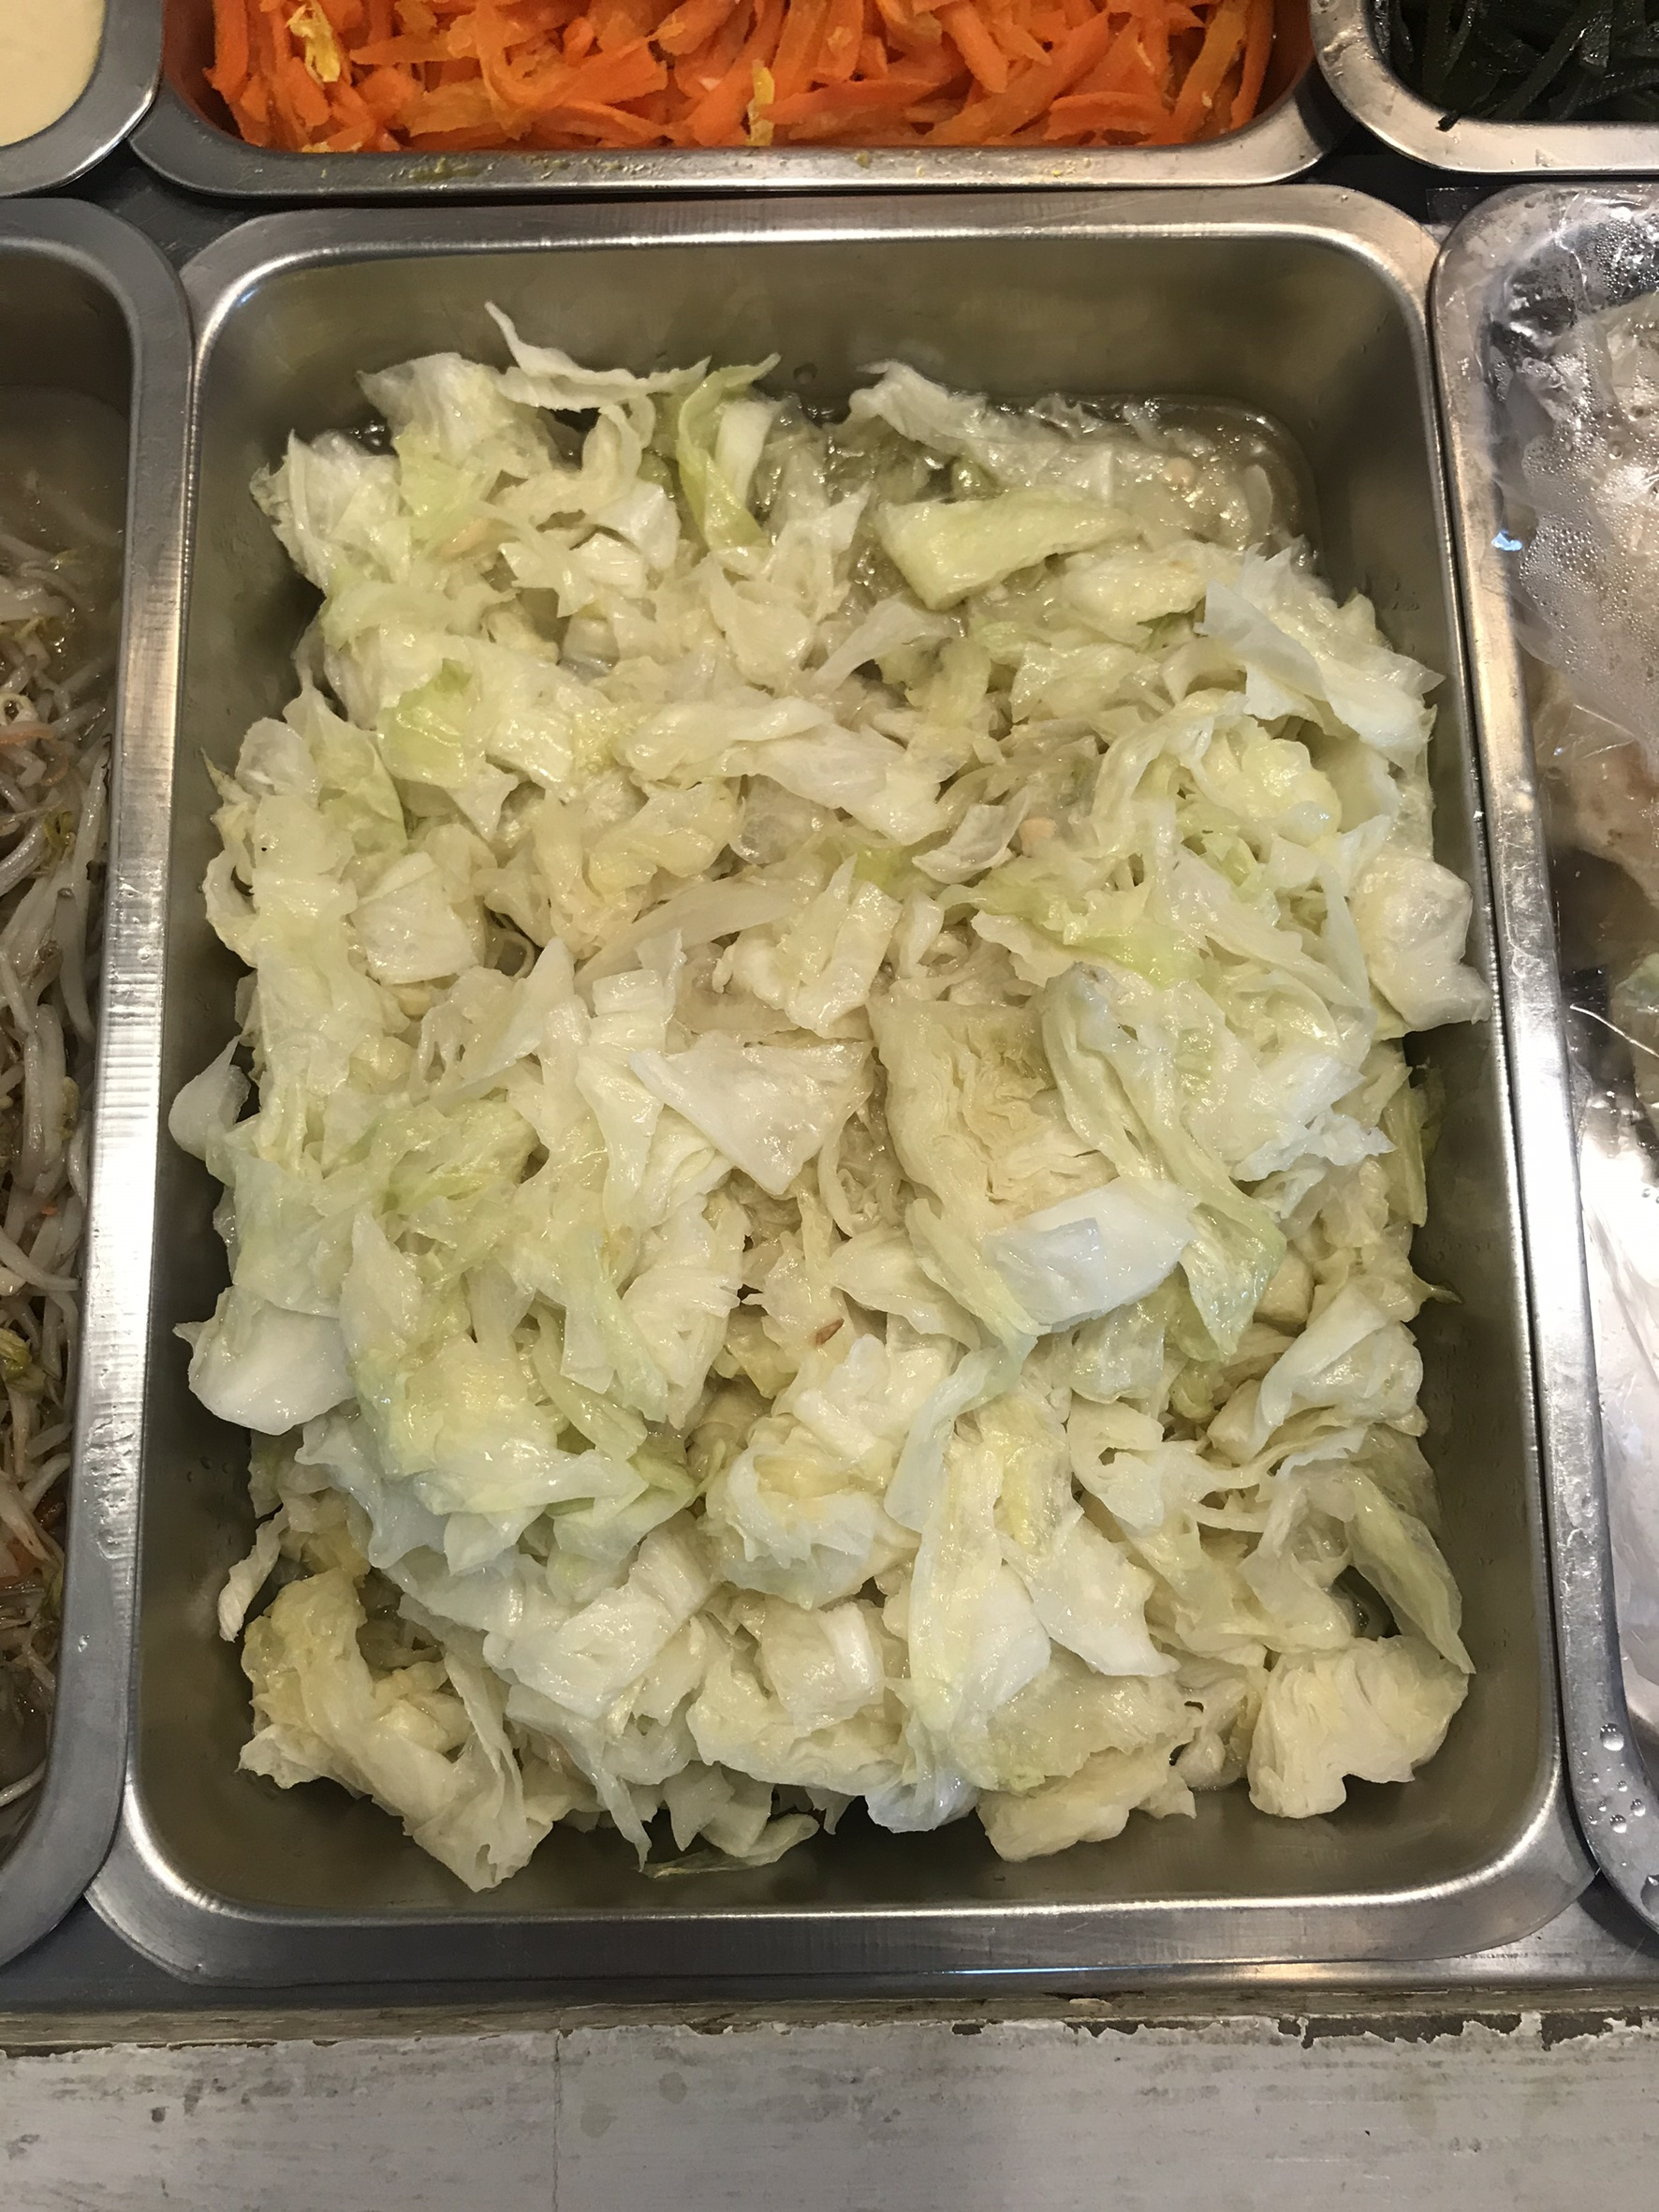carrot_eggs: (275, 2, 1223, 145)
chinese_cabbage: (291, 420, 1422, 1788)
mung_bean_sprouts: (2, 589, 108, 1171)
